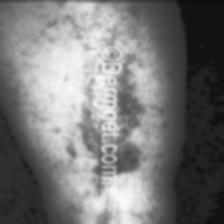Unclassified: (82, 35, 104, 204), (120, 64, 138, 186)
